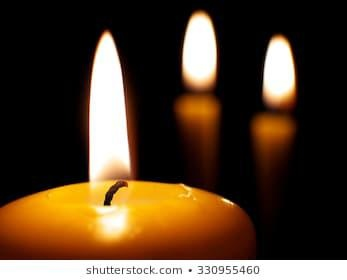fire: (85, 29, 132, 187), (180, 8, 219, 91), (261, 31, 298, 110)
